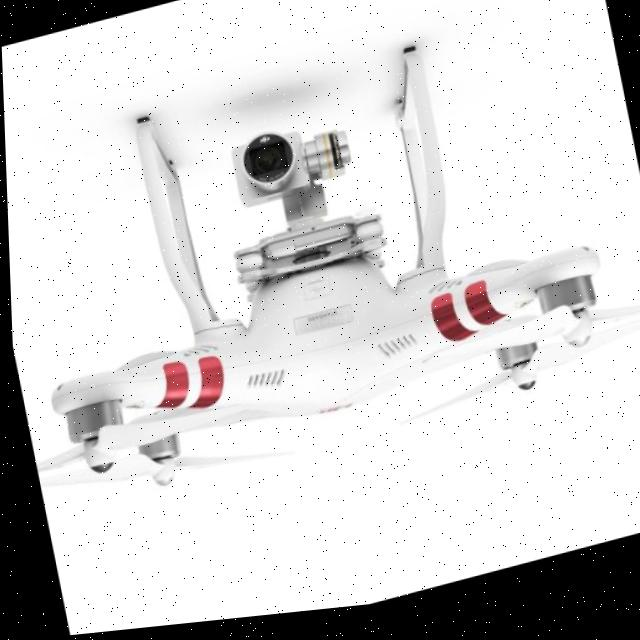drones: (0, 0, 640, 571)
